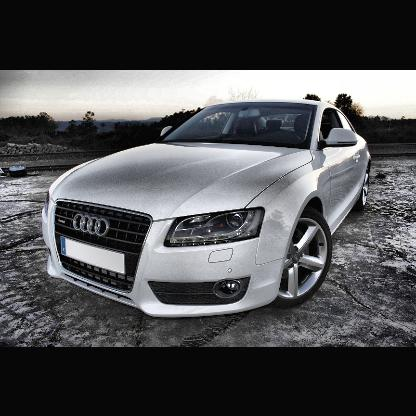Audi A5 Coupe 2012: (42, 98, 373, 320)
